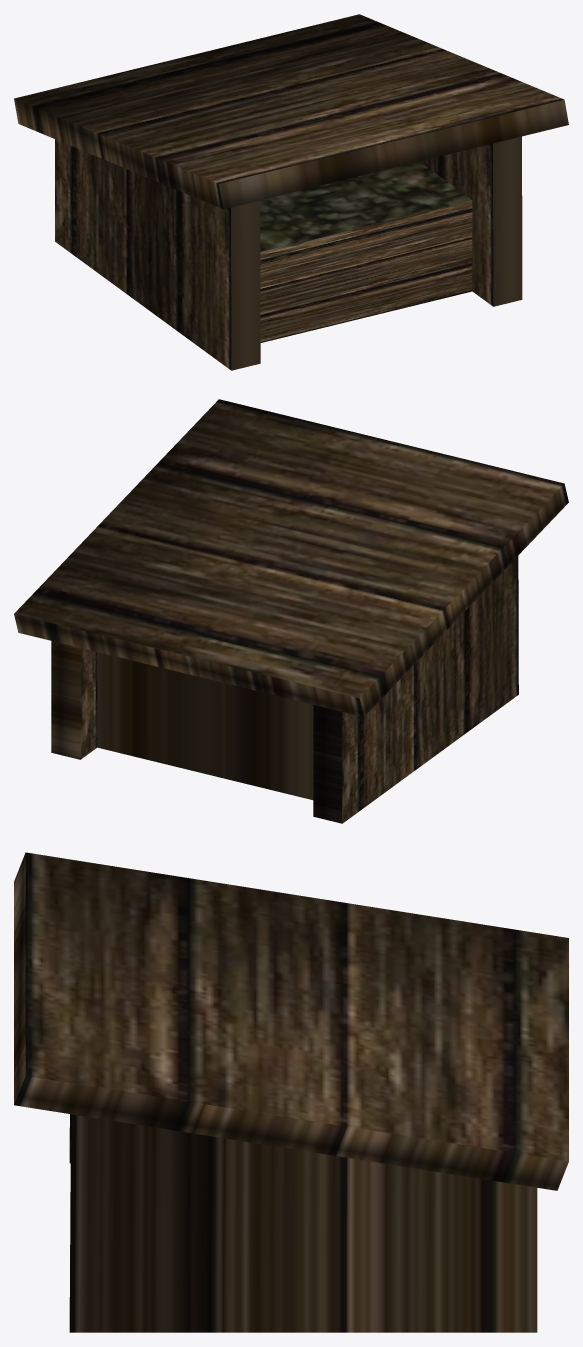
File: OC_CHIMNEY_V2.glb
3 renders of one model, top to bottom at view 1: azimuth 30°, elevation 25°; view 2: azimuth 150°, elevation 25°; view 3: azimuth 270°, elevation 25°, orthographic. The views are drawn at different scales.
Parts seen in each view (by area): view 1: Mesh; view 2: Mesh; view 3: Mesh.
Boxes of the visible parts, bbox=[...] form: Mesh: bbox=[14, 14, 568, 370]; Mesh: bbox=[14, 399, 568, 823]; Mesh: bbox=[14, 852, 568, 1332].
Size of the model in its own units: 0.95 by 0.5413 by 0.9969.
2 materials, 2 textured.
